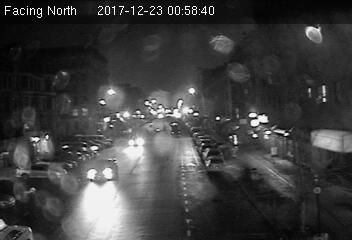car: (85, 156, 118, 182), (206, 156, 226, 171), (126, 135, 146, 148)
